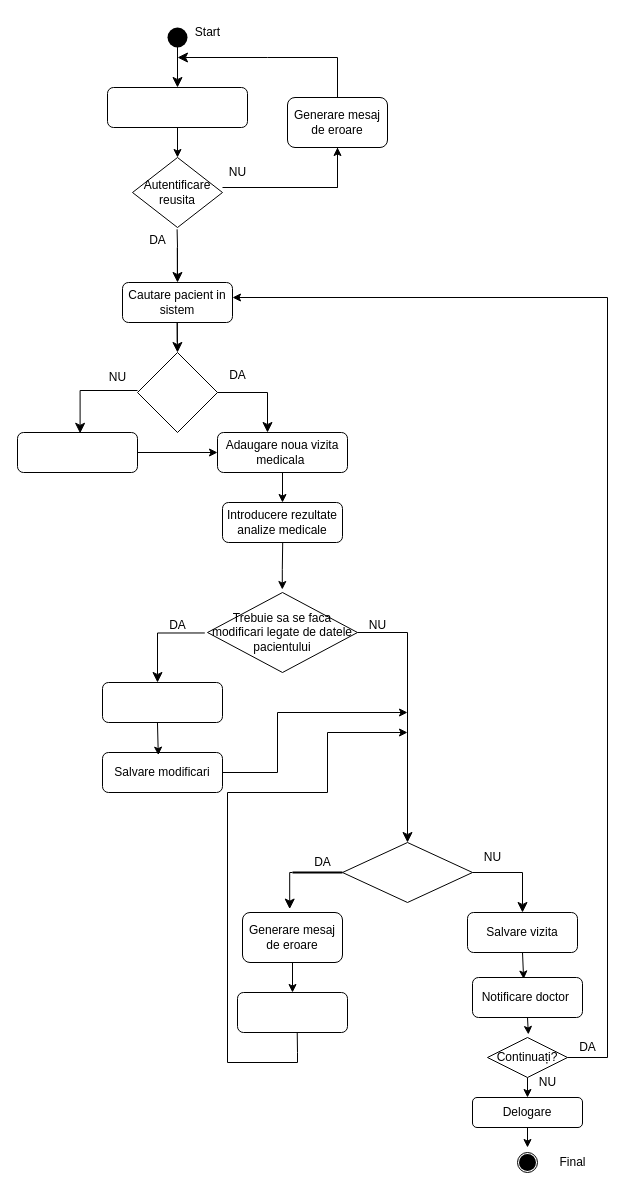
This 633x1194 diagram has some shape labels left out. Each missing label, with the box of its shape:
Asistentul adauga in sistem noul pacient: (16, 432, 138, 472)
Autentificare asistent medical: (106, 86, 248, 128)
Completare date lipsa: (236, 992, 348, 1032)
Date introduse incomplet: (342, 842, 472, 902)
Editare profil pacient: (102, 682, 222, 722)
Pacientul exista in sistem: (136, 352, 218, 432)
